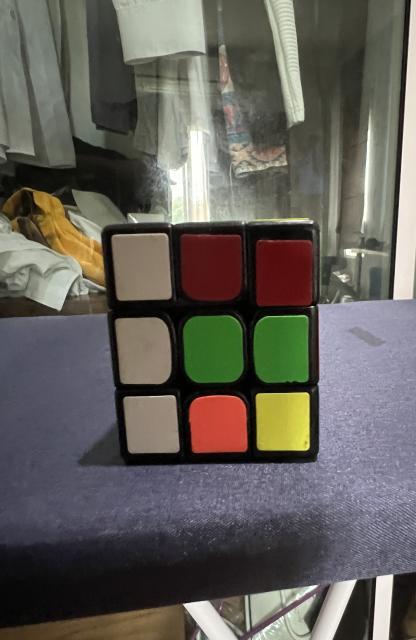Green: (183, 315, 244, 382), (254, 315, 309, 382)
Orange: (188, 395, 248, 454)
Red: (181, 234, 242, 301), (256, 240, 313, 306)
White: (112, 234, 172, 301), (115, 318, 171, 384), (124, 395, 180, 454)
Yellow: (256, 392, 310, 451)
